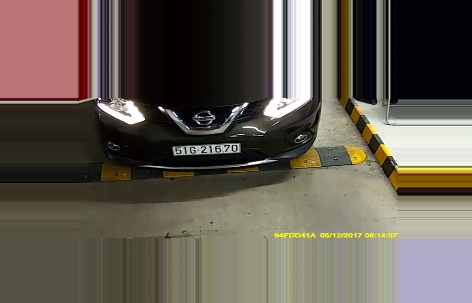plate: (170, 142, 242, 154)
